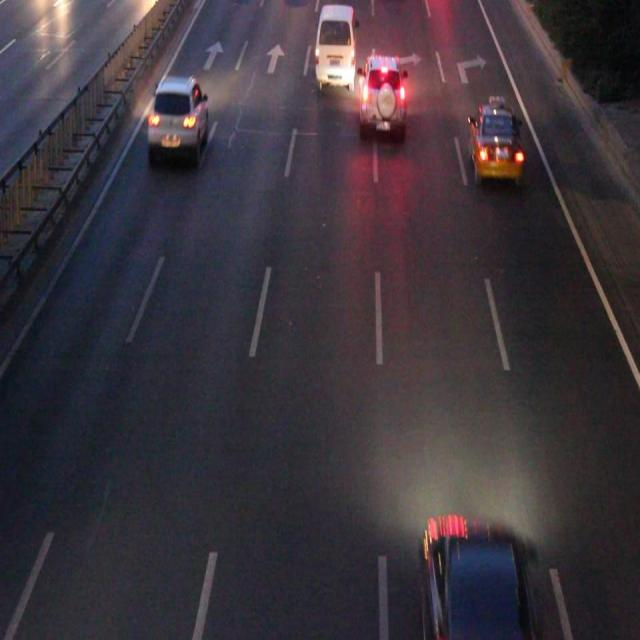car: (422, 526, 534, 634), (148, 78, 206, 158), (467, 106, 519, 178), (358, 58, 404, 128)
truck: (313, 1, 354, 88)
